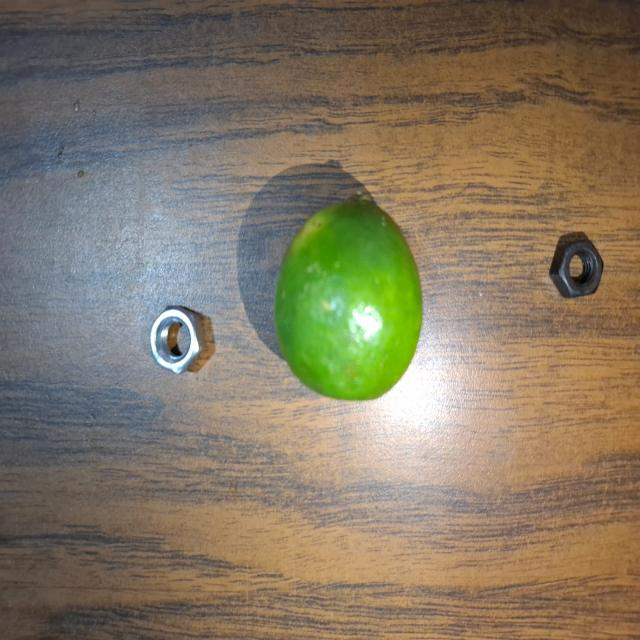limon: (273, 190, 425, 405)
milimetrico: (548, 232, 608, 308)
tuerca: (142, 304, 211, 382)
